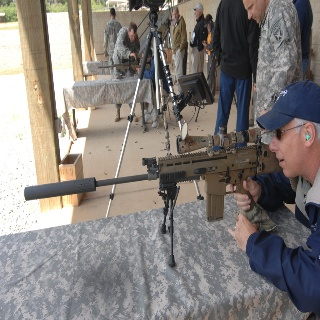rifle: (22, 122, 285, 267)
